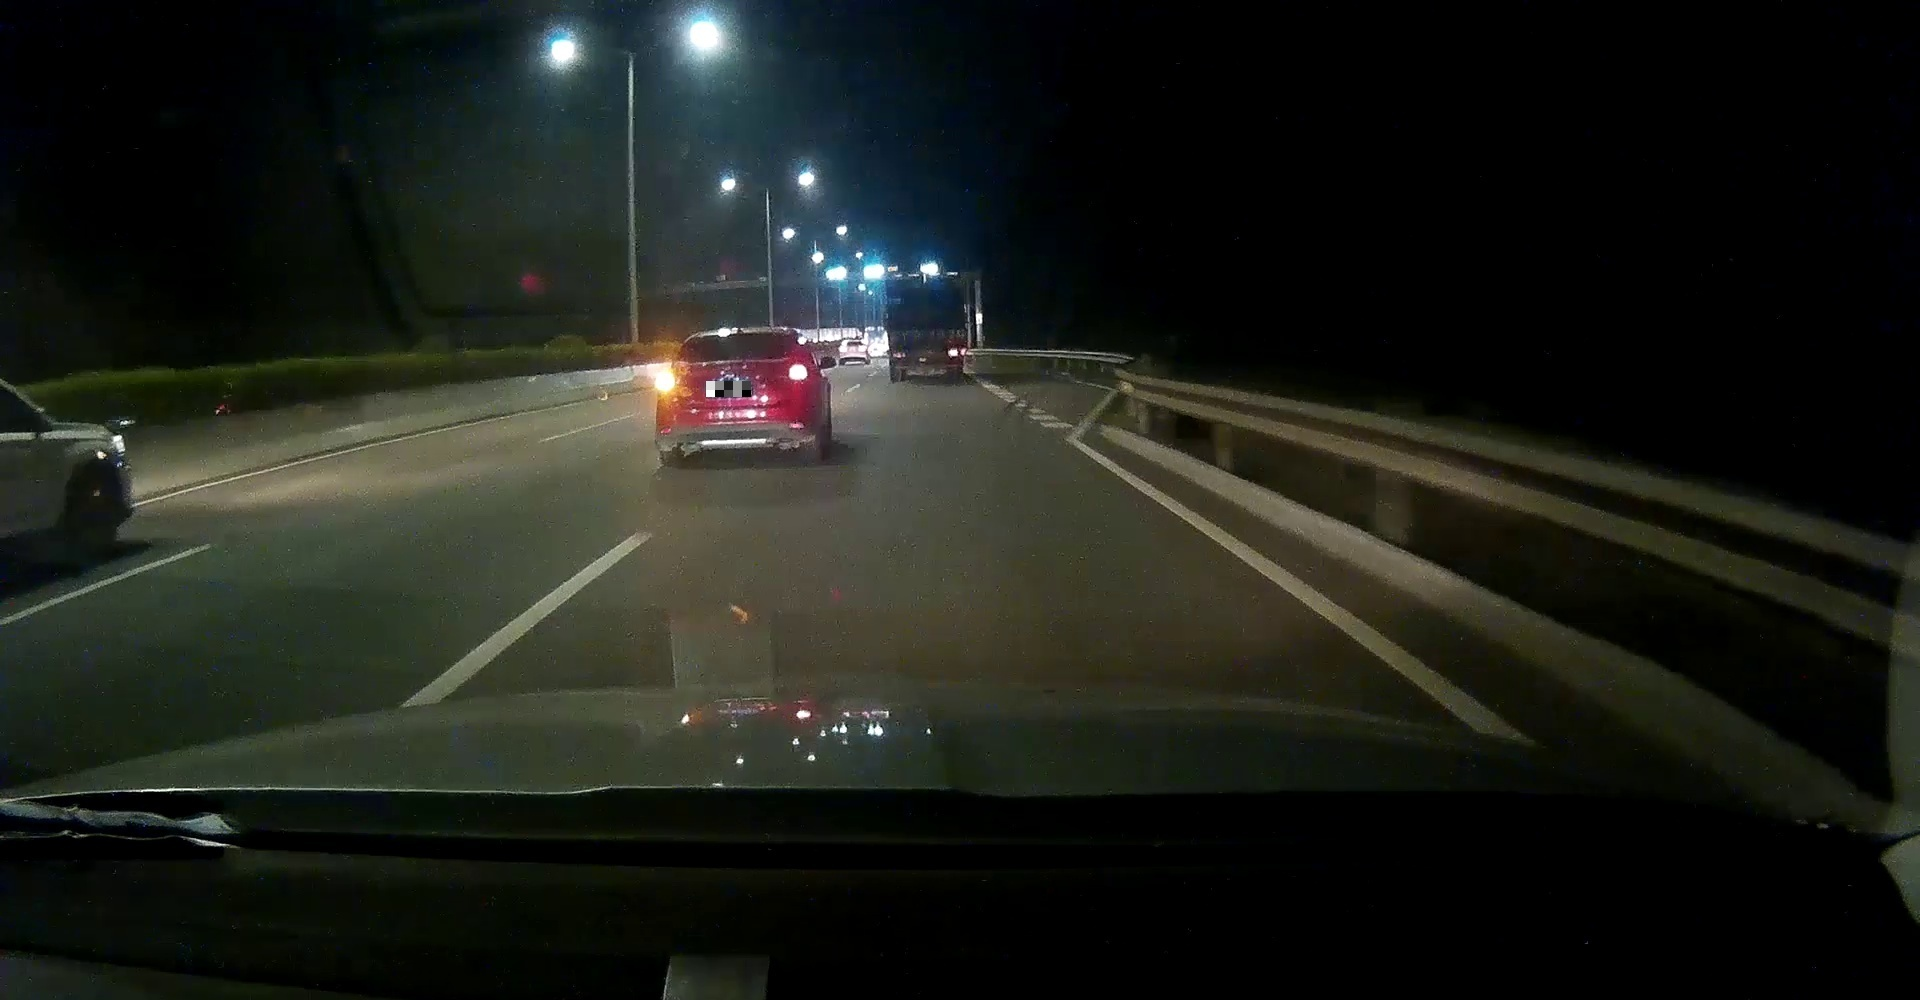L_light: (657, 374, 676, 391), (893, 352, 905, 359)
R_light: (787, 364, 808, 379), (949, 348, 965, 357)
T_light: (729, 335, 750, 341), (923, 332, 938, 339)
night-left: (657, 327, 817, 467)
night-no: (886, 275, 968, 382)
plate_1: (706, 381, 750, 397)
